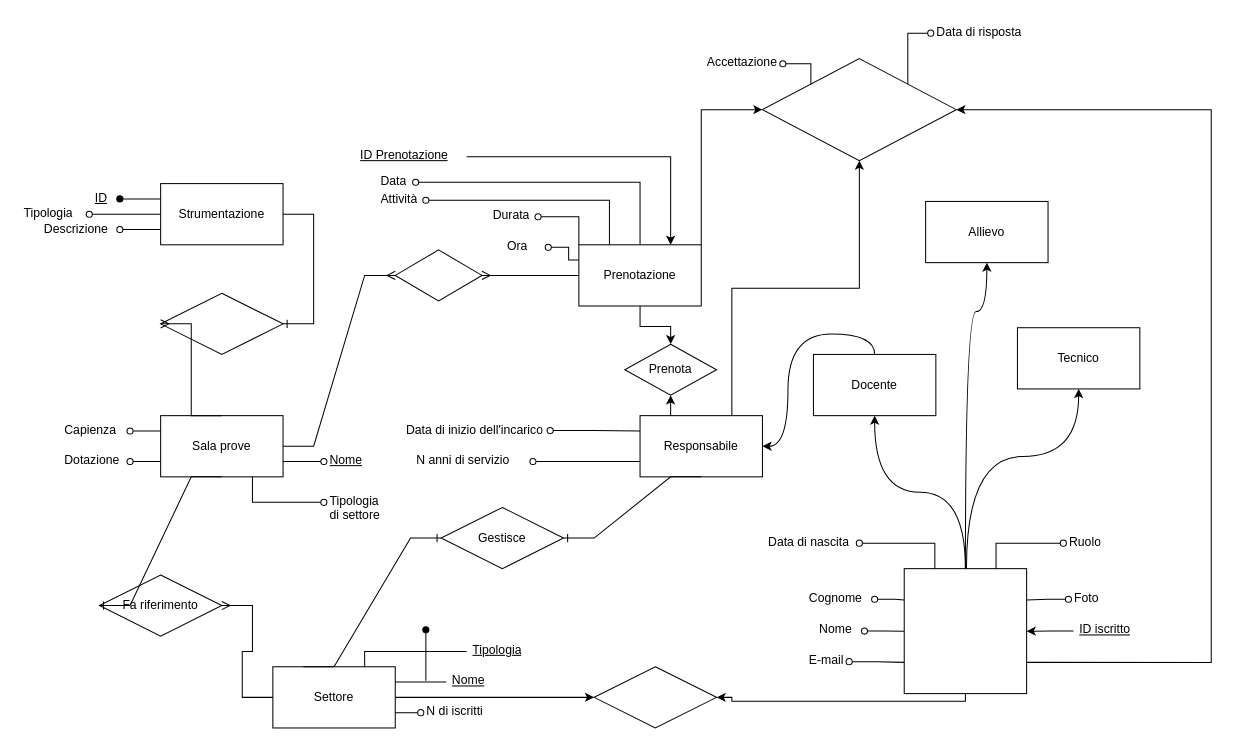
Image size: 1237x749. Some labels were removed from this diagram. Each missing label, with the centre of its shape:
"Avviene in" goes at point (438, 275).
"Invita" goes at point (858, 109).
"Iscritto" goes at point (965, 631).
"Iscritto a" goes at point (655, 697).
"Sta in" goes at point (221, 323).
